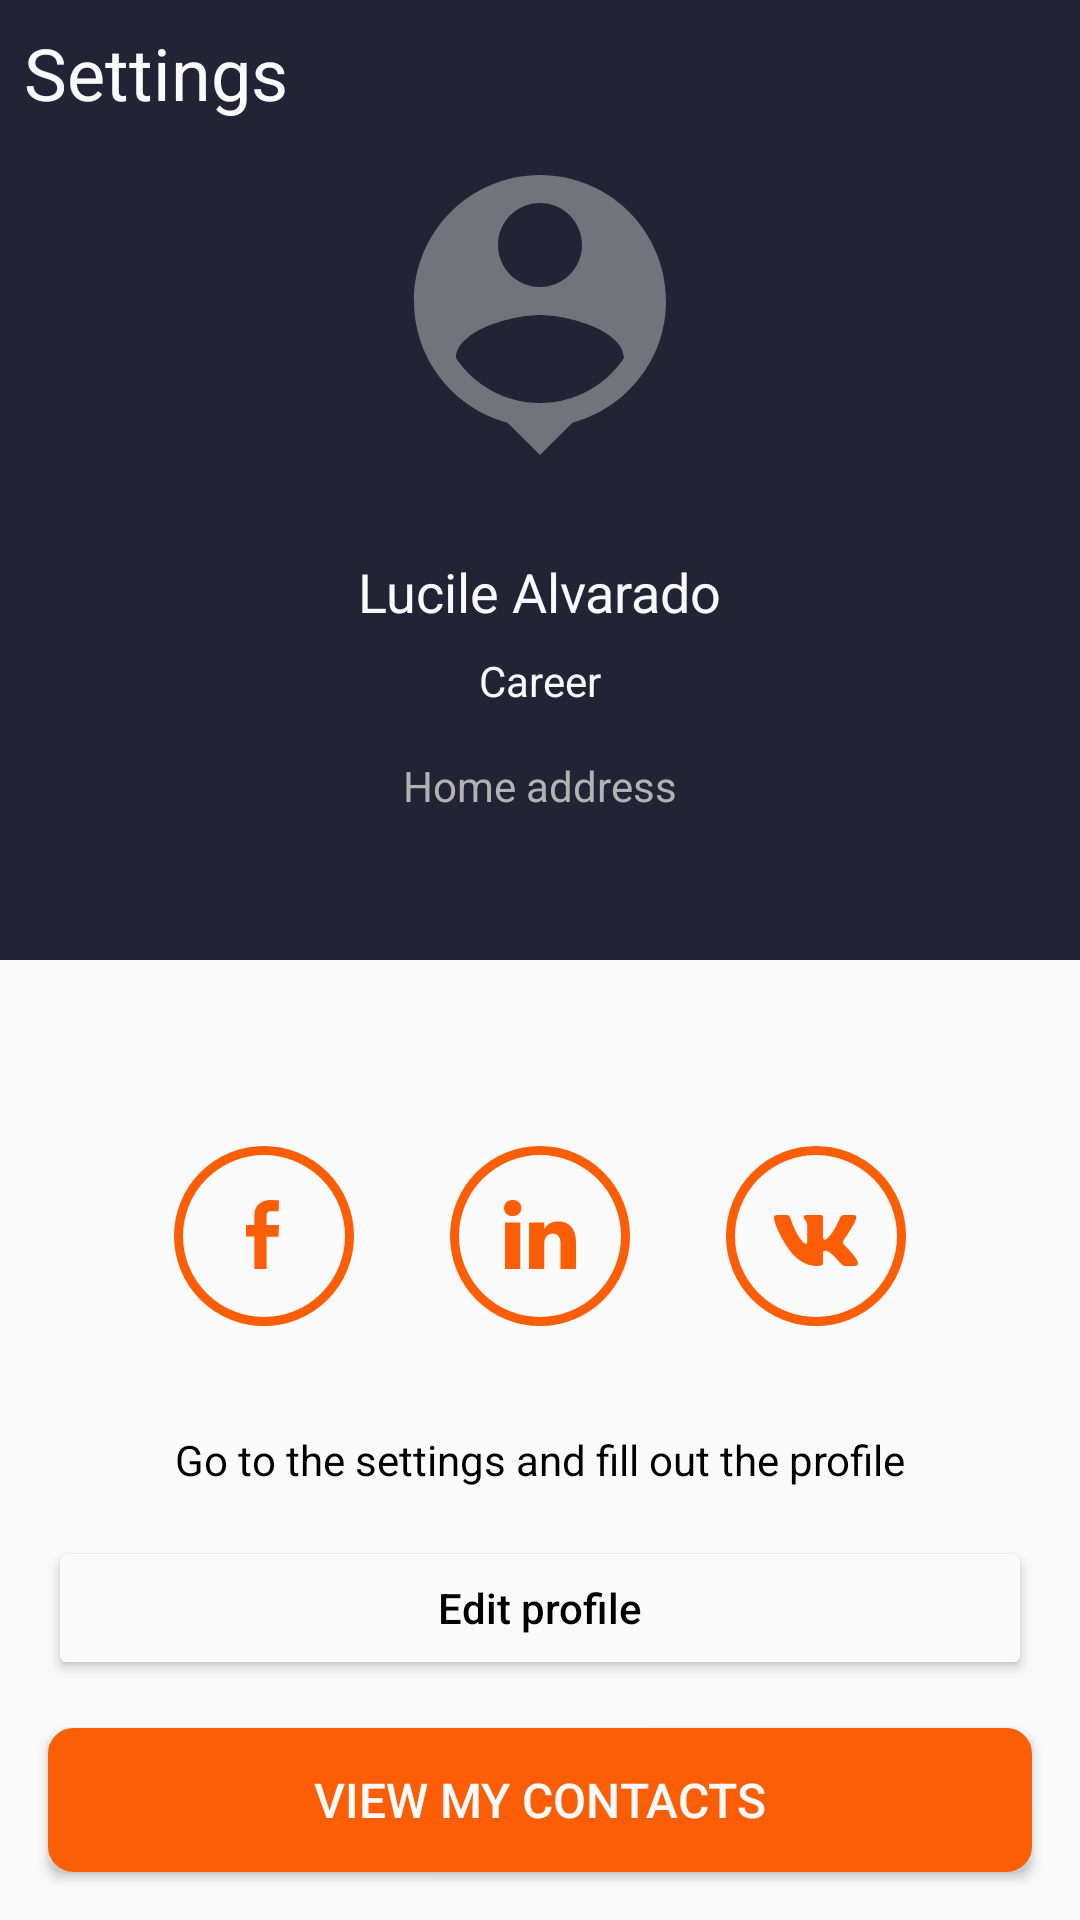

Point at icon controls on the screen. Image size 1080x1920, points as [x,y].
personal photo: [540,315]
